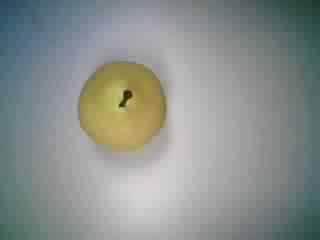pear: (64, 57, 173, 159)
